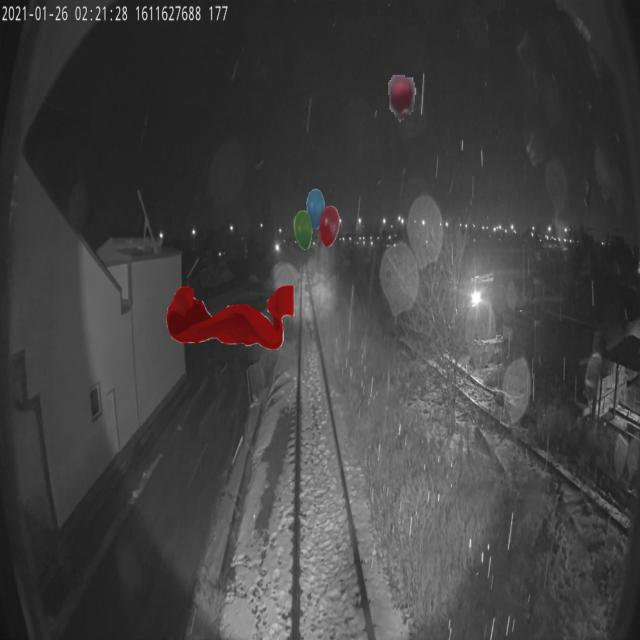balloon: (294, 188, 340, 252), (381, 70, 420, 134)
floating object: (166, 286, 294, 350)
